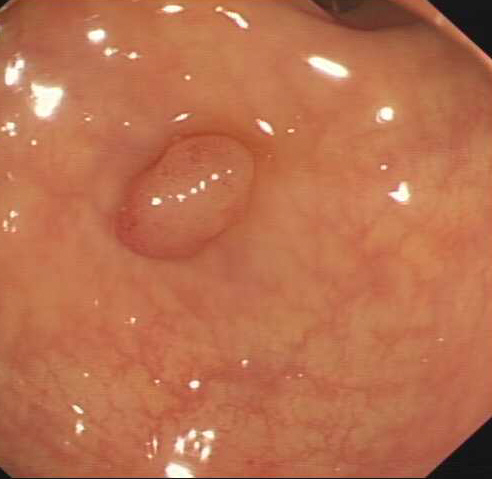adenoma: (111, 131, 256, 259)
